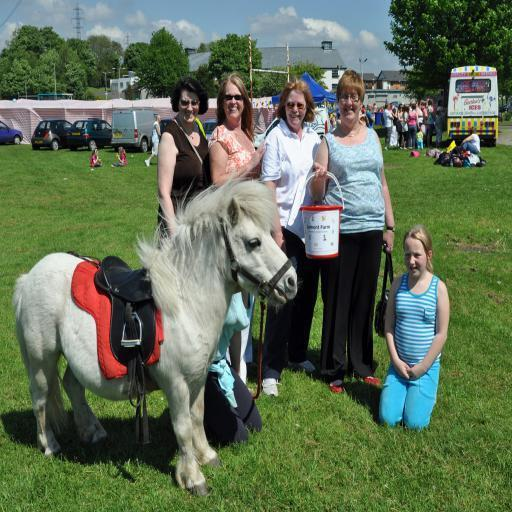horse: (12, 169, 299, 499)
